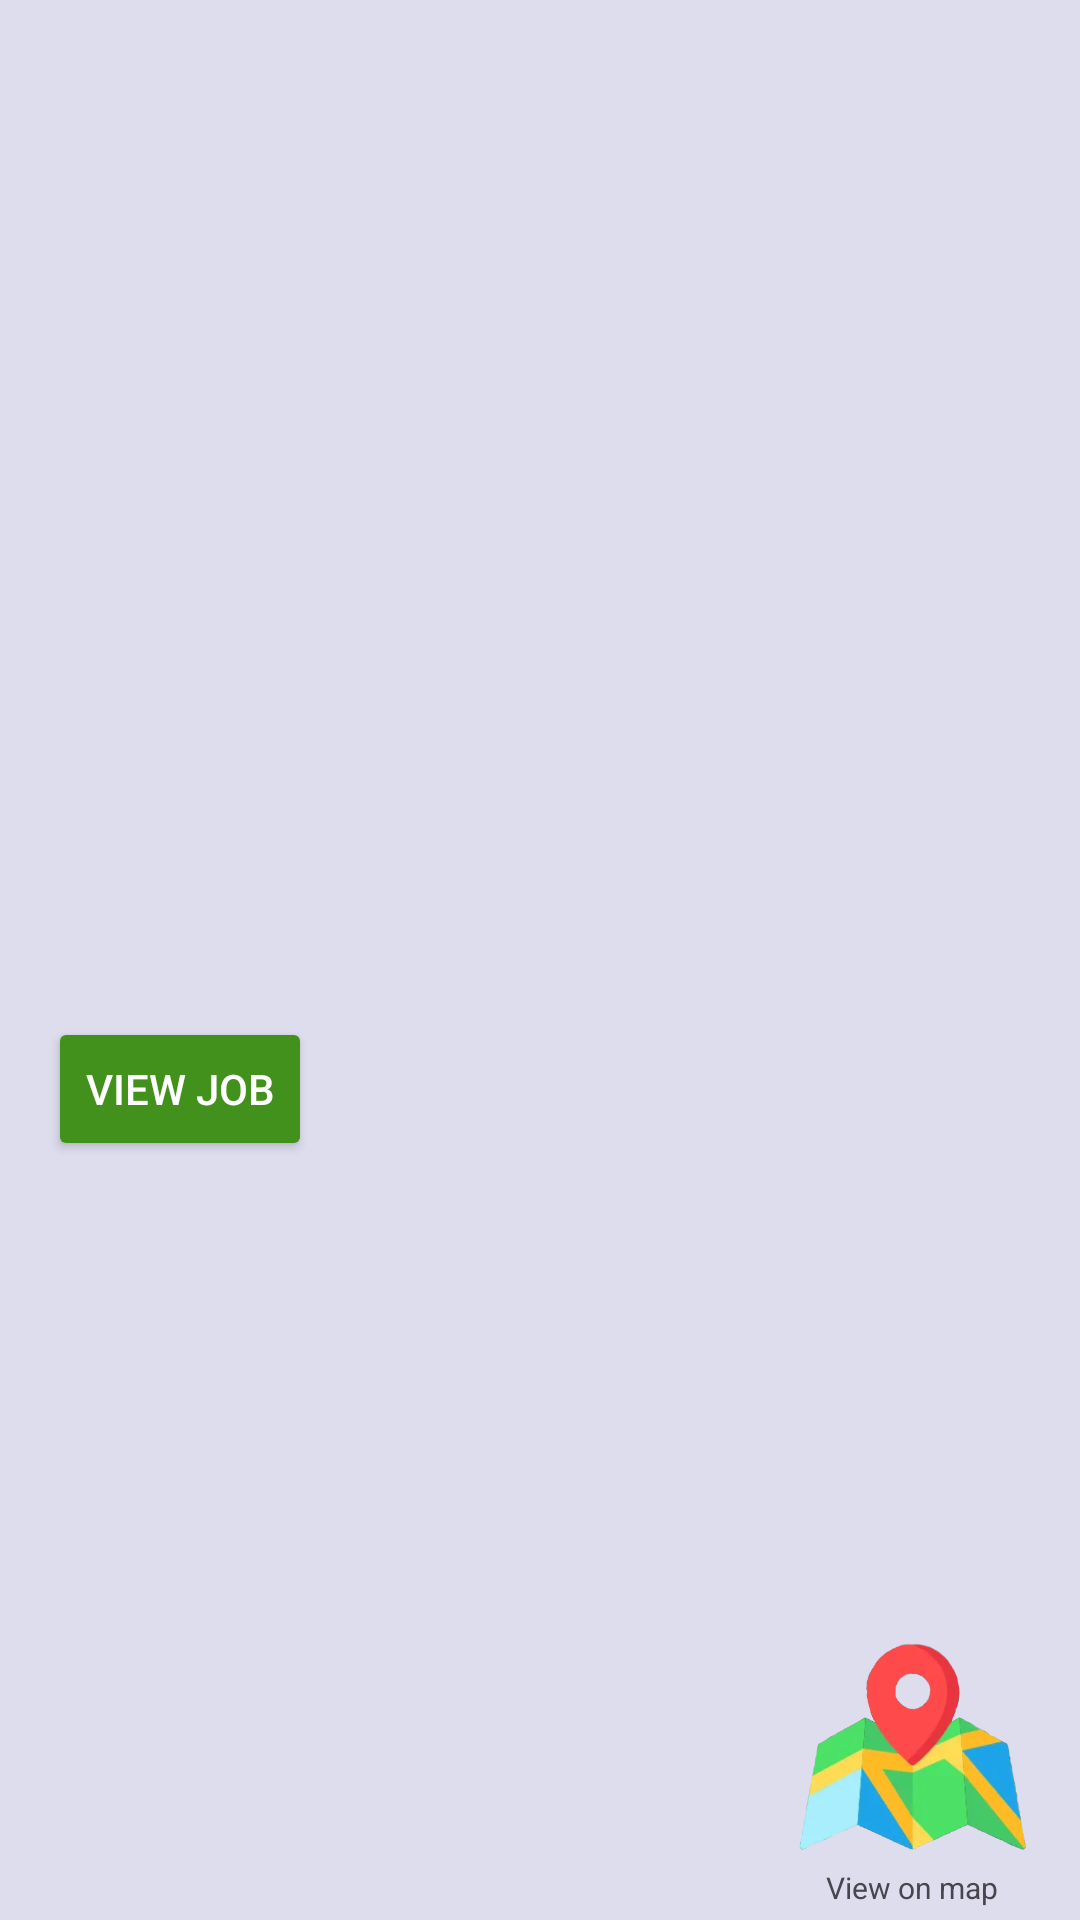

Point at icon controls on the screen. Image size 1080 x 1920, points as (x=x, y=y).
google map and pin: (x=913, y=1747)
